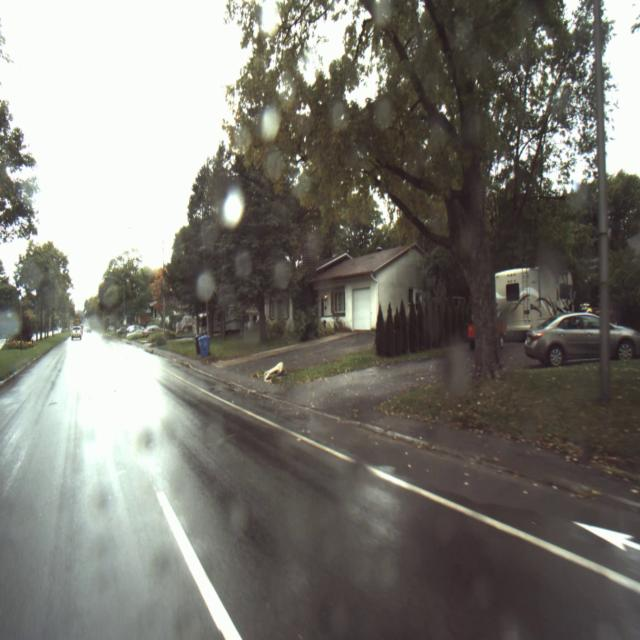car: (525, 313, 640, 367), (70, 325, 83, 340)
